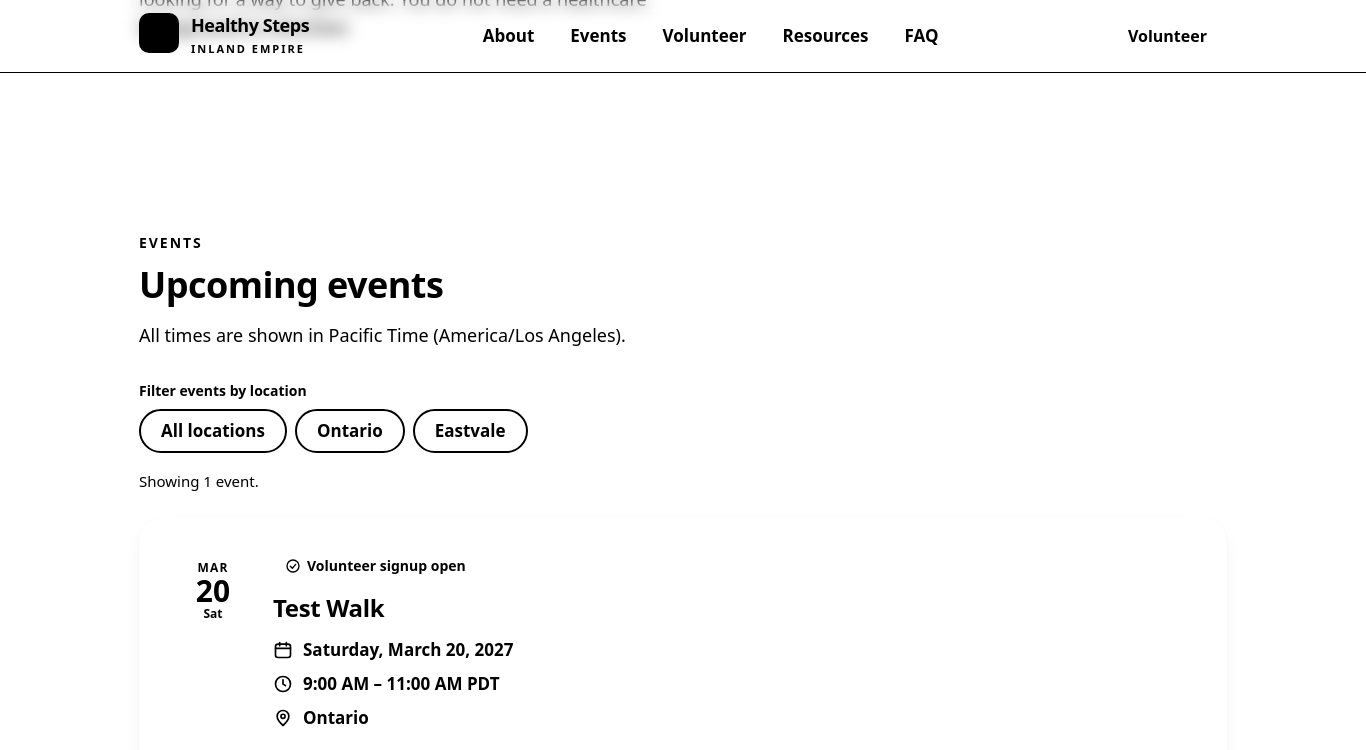
Scenario: events list › filters by location and offers a way back when nothing matches
(page scrolled)
Click the radio button labelled "Eastvale". click: (470, 431)
box: [413,409,528,453]
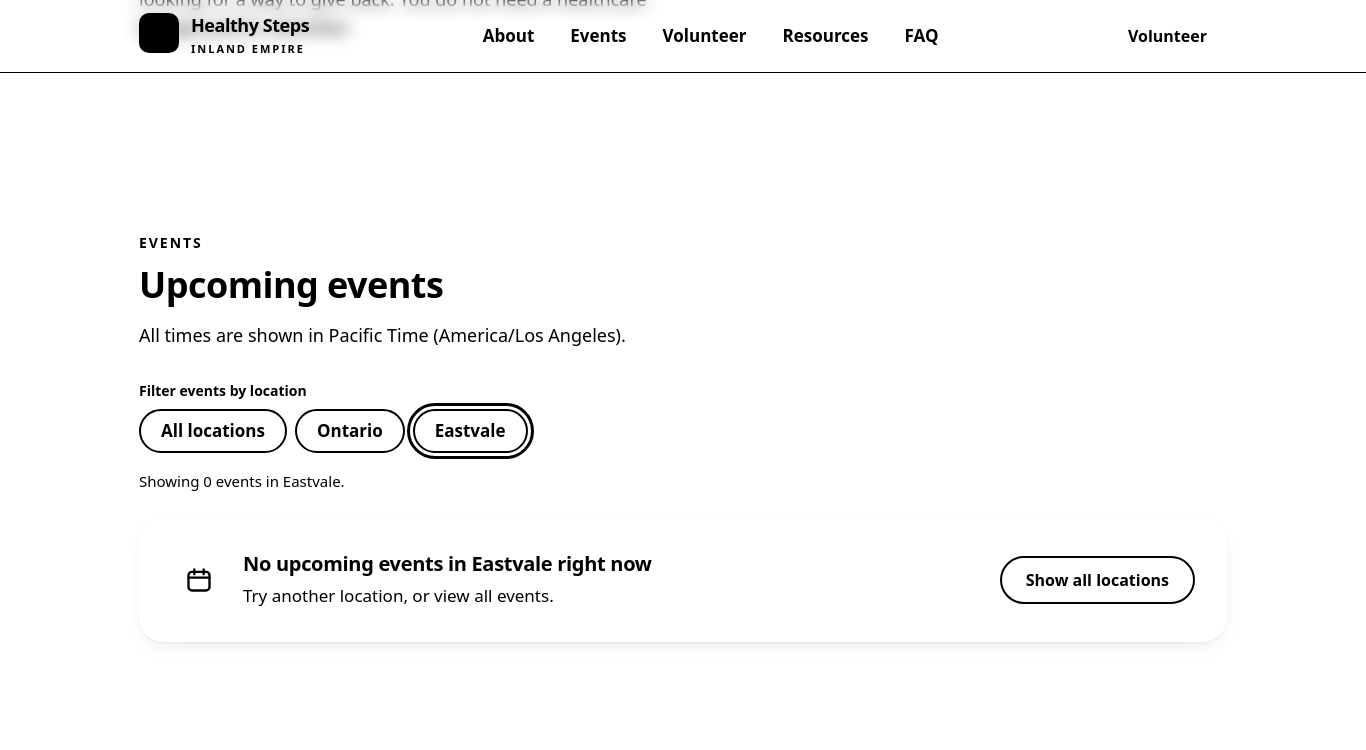
Click the button "Show all locations". click: (1097, 580)
box: [1000,556,1195,604]
(page scrolled)
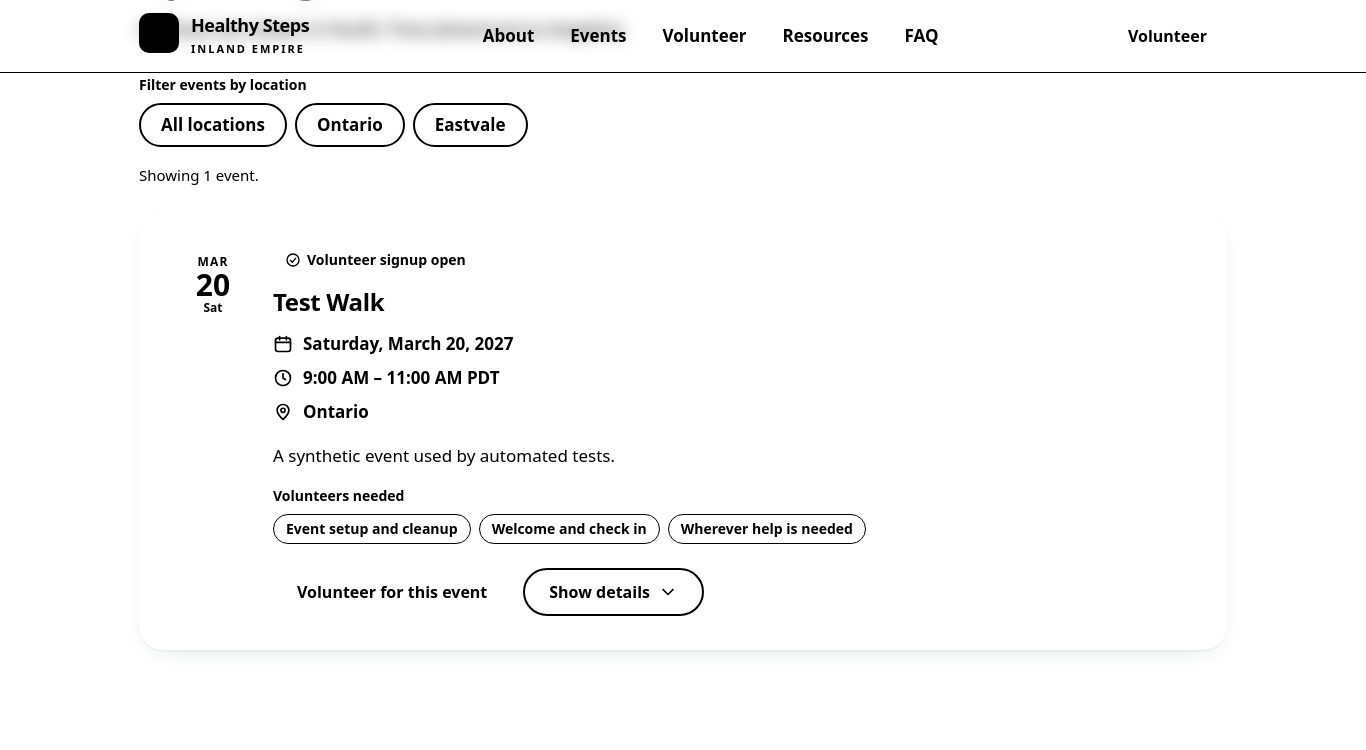
Now the element "Test Walk" is shown, box [139,212,1227,650]
